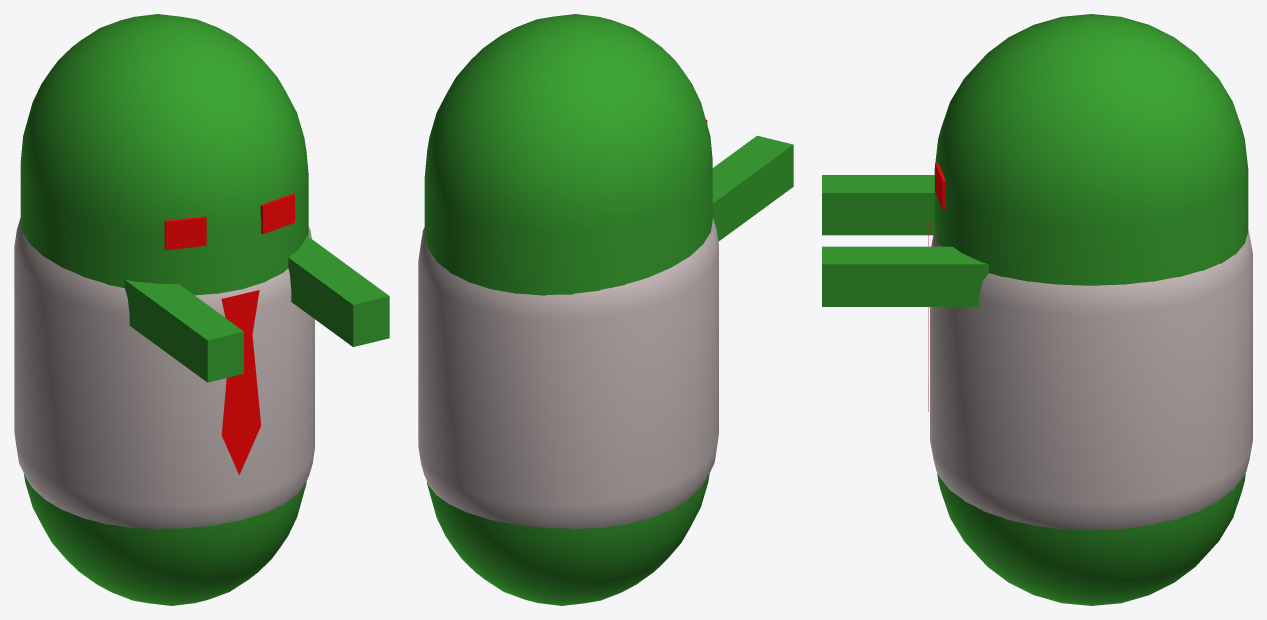
The model's file is Zombie.fbx.
The picture shows the model from 3 angles, left to right: view 1: azimuth 30°, elevation 25°; view 2: azimuth 150°, elevation 25°; view 3: azimuth 270°, elevation 25°; orthographic projection.
Parts seen in each view (by area): view 1: Zombie, Shirt, Left_Arm, Right_Arm, Shirt_Tie, Right_Eye, Left_Eye; view 2: Zombie, Shirt, Left_Arm; view 3: Zombie, Shirt, Right_Arm, Left_Arm.
Part boxes in pixels (x1,y1,x2,y2): Zombie: [20, 14, 308, 605]; Shirt: [14, 218, 314, 529]; Left_Arm: [124, 280, 243, 382]; Right_Arm: [288, 235, 389, 346]; Shirt_Tie: [221, 290, 261, 474]; Right_Eye: [164, 216, 206, 250]; Left_Eye: [260, 193, 294, 234]; Zombie: [424, 14, 712, 605]; Shirt: [418, 218, 718, 529]; Left_Arm: [712, 135, 793, 241]; Zombie: [934, 14, 1248, 605]; Shirt: [930, 230, 1252, 530]; Right_Arm: [822, 246, 988, 306]; Left_Arm: [822, 175, 934, 235].
Bounding box in the file's own units: 94.5 × 200 × 137.
